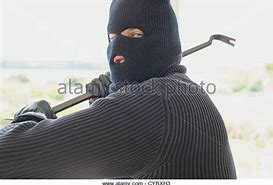crowbar: (11, 32, 238, 124)
